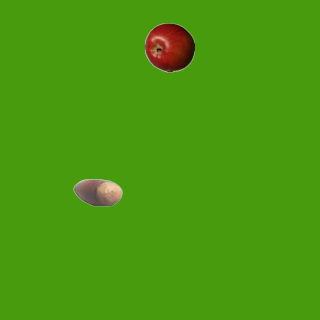Apple Braeburn: (144, 22, 194, 72)
Hazelnut: (72, 167, 122, 217)
